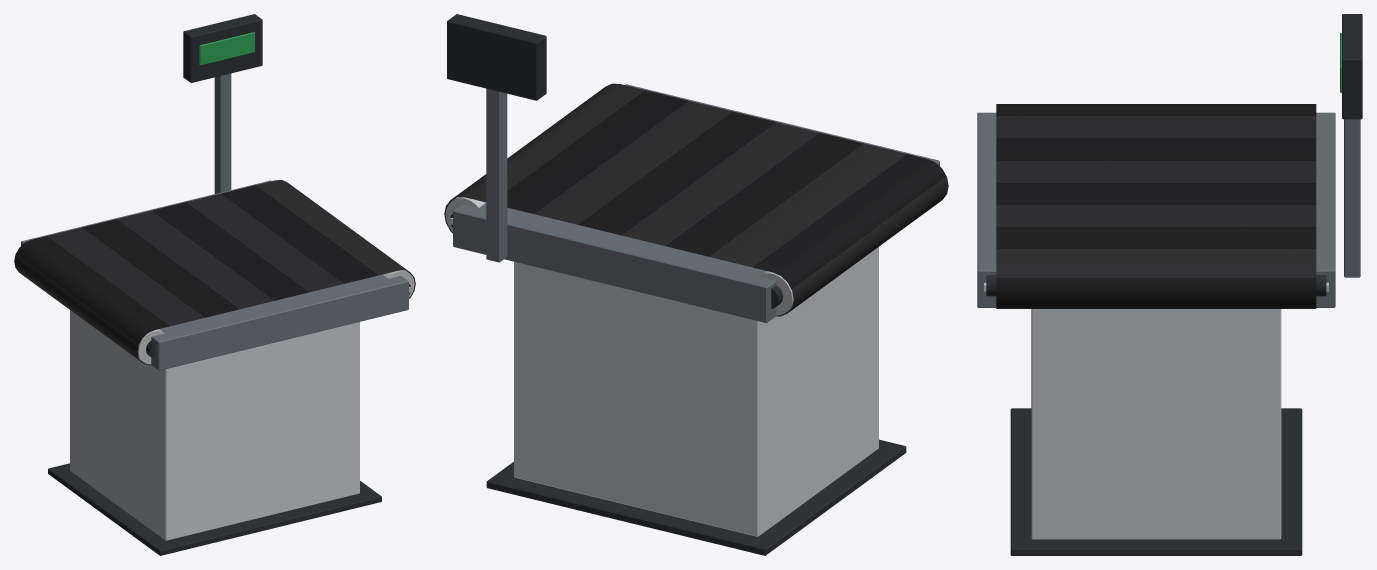
File: conveyor_scale.glb
3 views of the same model, side by side, from view 1: azimuth 30°, elevation 25°; view 2: azimuth 150°, elevation 25°; view 3: azimuth 270°, elevation 25° (orthographic). The views are drawn at different scales.
Visible parts, largest first — view 1: Scale_Static, Belt, Roller_Tail; view 2: Scale_Static, Belt, Roller_Tail; view 3: Scale_Static, Belt, Roller_Head.
Boxes of the visible parts, bbox=[...] form: Scale_Static: bbox=[21, 14, 408, 555]; Belt: bbox=[14, 180, 415, 365]; Roller_Tail: bbox=[137, 329, 164, 364]; Scale_Static: bbox=[447, 14, 939, 555]; Belt: bbox=[444, 83, 948, 316]; Roller_Tail: bbox=[759, 271, 793, 315]; Scale_Static: bbox=[977, 14, 1362, 555]; Belt: bbox=[996, 104, 1316, 308]; Roller_Head: bbox=[984, 275, 1328, 296].
Size of the model in its own units: 1 by 1.33 by 0.925.
Materials: 6 (1 with a texture image).
